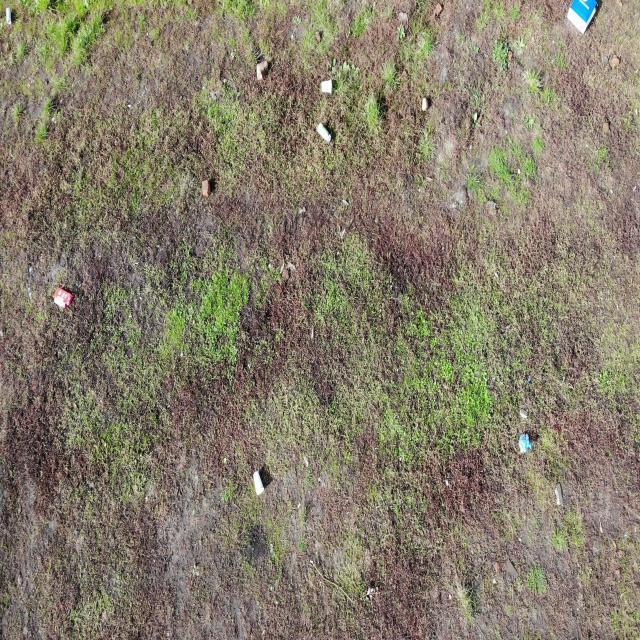rubbish: (564, 0, 600, 35), (50, 288, 75, 310), (515, 431, 533, 452), (316, 122, 331, 147), (252, 469, 265, 495), (321, 80, 332, 93), (6, 7, 11, 25)
